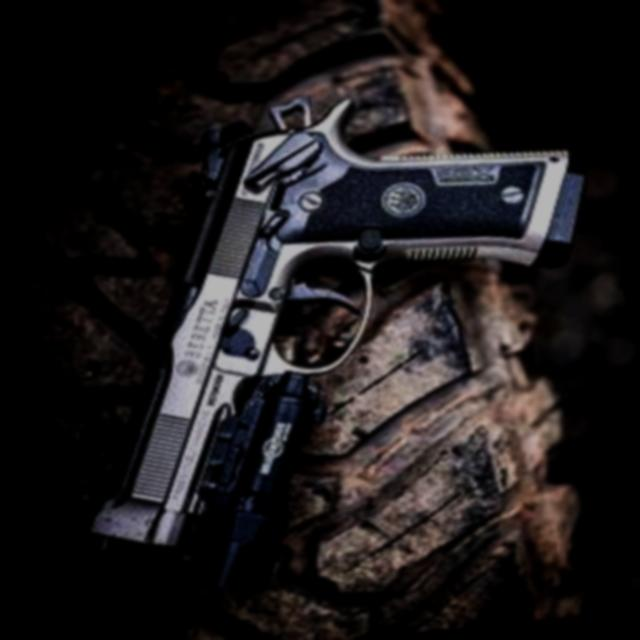semi automatic: (40, 57, 627, 627)
